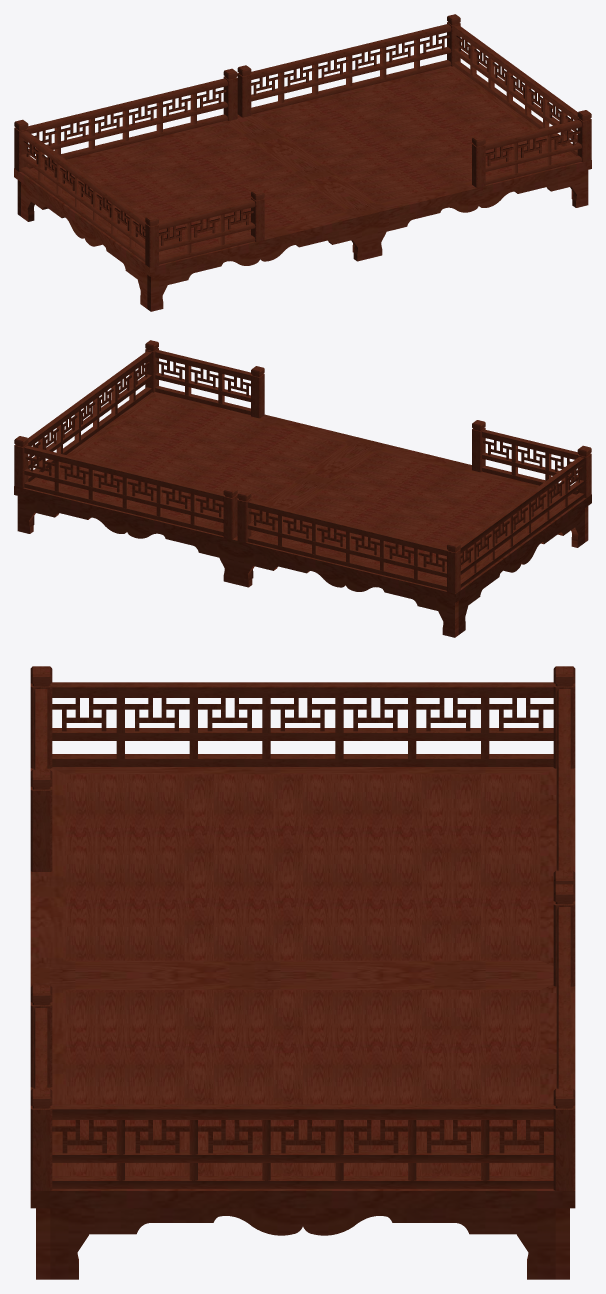
3 views of the same model, one above another, from view 1: azimuth 30°, elevation 25°; view 2: azimuth 150°, elevation 25°; view 3: azimuth 270°, elevation 25° (orthographic). The views are drawn at different scales.
Visible parts, largest first — view 1: 나무; view 2: 나무; view 3: 나무.
Part boxes in pixels (x1,y1,x2,y2): 나무: [14, 14, 591, 311]; 나무: [14, 340, 591, 637]; 나무: [30, 666, 575, 1279].
Bounding box in the file's own units: 151 × 30.23 × 80.76.
